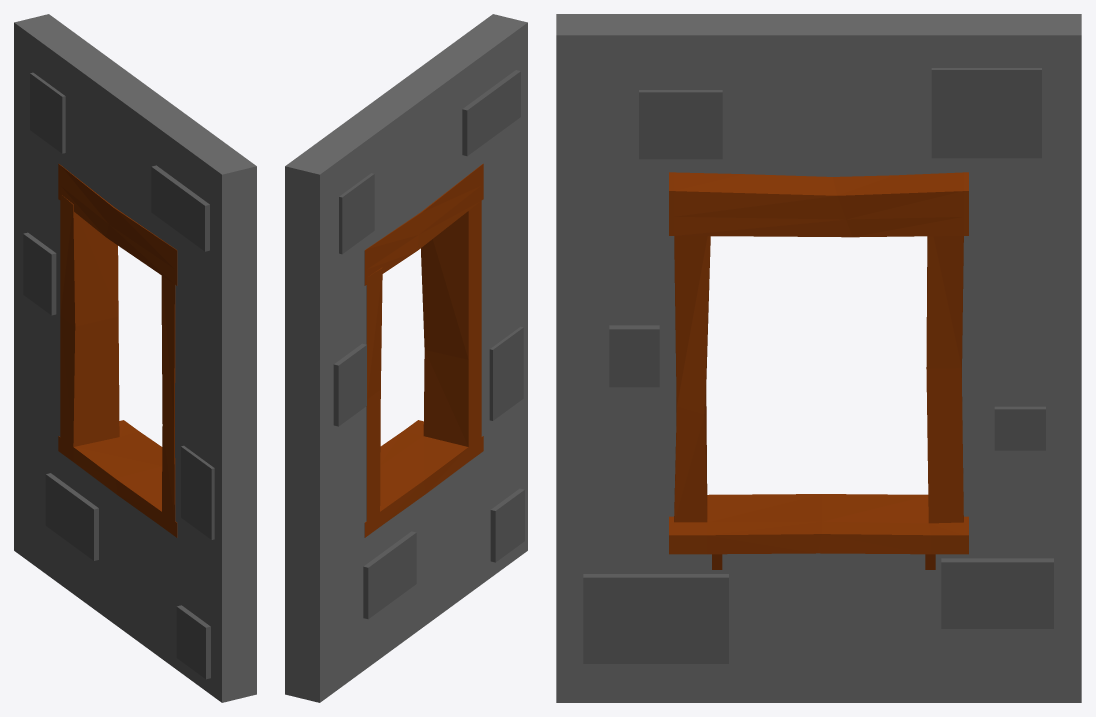
The model's file is StoneWalls2.fbx.
The picture shows the model from 3 angles, left to right: view 1: azimuth 30°, elevation 25°; view 2: azimuth 150°, elevation 25°; view 3: azimuth 270°, elevation 25°; orthographic projection. The views are drawn at different scales.
Visible parts, largest first — view 1: StoneWalls.001; view 2: StoneWalls.001; view 3: StoneWalls.001.
Boxes of the visible parts, x1,y1,x2,y2 form: StoneWalls.001: [14, 14, 256, 702]; StoneWalls.001: [285, 14, 527, 702]; StoneWalls.001: [556, 14, 1081, 702].
Bounding box in the file's own units: 59.58 × 404 × 289.
